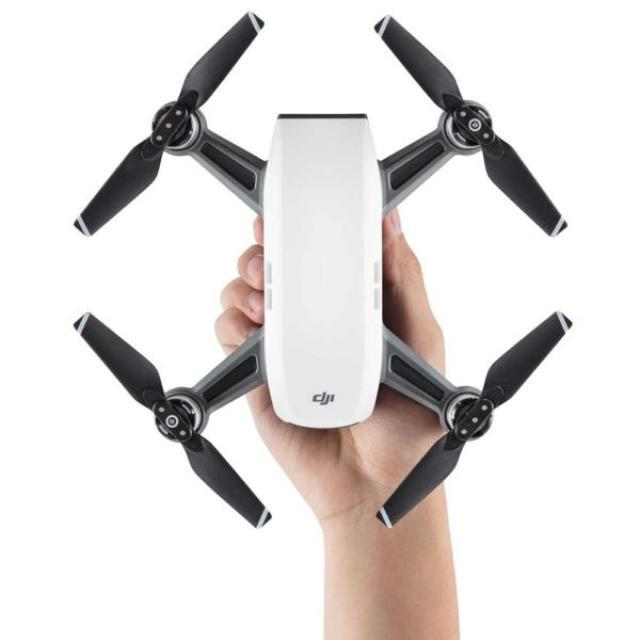drones: (64, 5, 582, 542)
